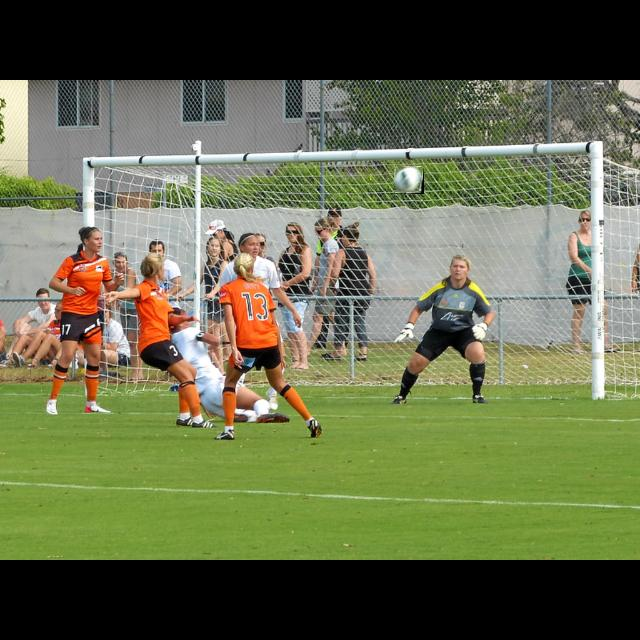Football: (394, 166, 424, 194)
